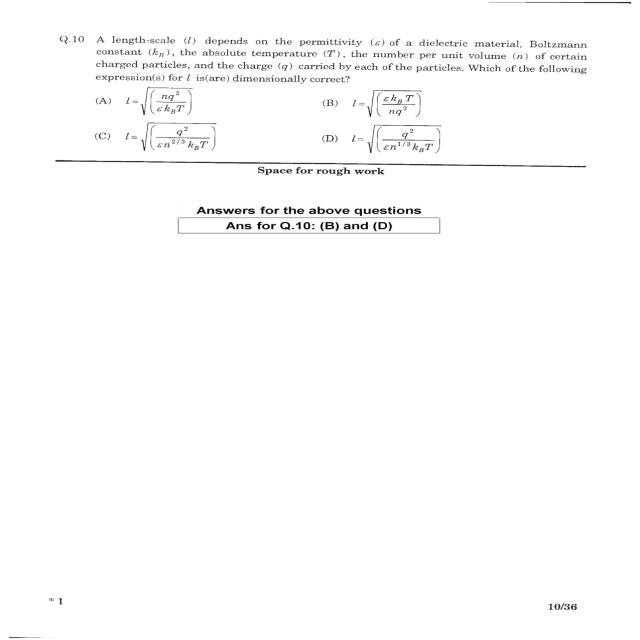Answer_Block: (31, 86, 612, 166)
Description: (31, 190, 612, 260)
Question_Answer_Block: (31, 10, 612, 166)
Question_Block: (31, 9, 612, 88)
